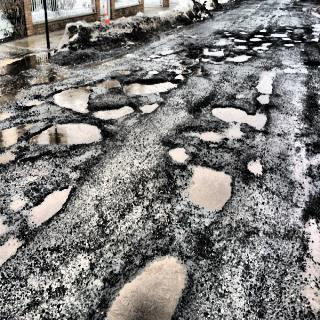pothole: (78, 245, 202, 318), (5, 117, 106, 164), (25, 181, 81, 235), (186, 161, 236, 220), (208, 102, 276, 133), (123, 67, 186, 97), (48, 80, 96, 112), (0, 217, 25, 272), (91, 95, 138, 124), (180, 120, 228, 146), (165, 142, 196, 168), (256, 68, 278, 104), (82, 73, 121, 93), (190, 44, 225, 66), (246, 157, 271, 182), (226, 49, 252, 66), (270, 32, 292, 41), (305, 59, 320, 68), (216, 36, 227, 47), (161, 49, 174, 56), (249, 36, 262, 42), (283, 42, 294, 49), (148, 54, 160, 60), (234, 44, 248, 49), (253, 33, 265, 38), (259, 28, 268, 33), (239, 31, 247, 35)
